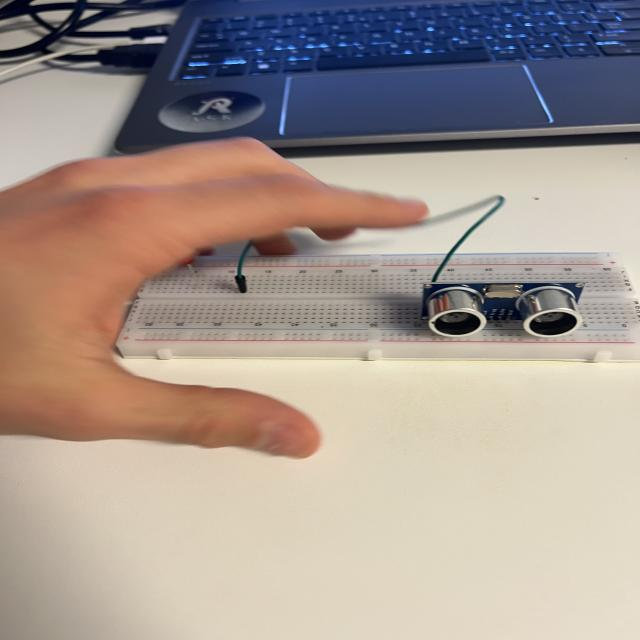BreadBoard: (127, 250, 639, 364)
UltrasoneSensor: (411, 279, 603, 343)
